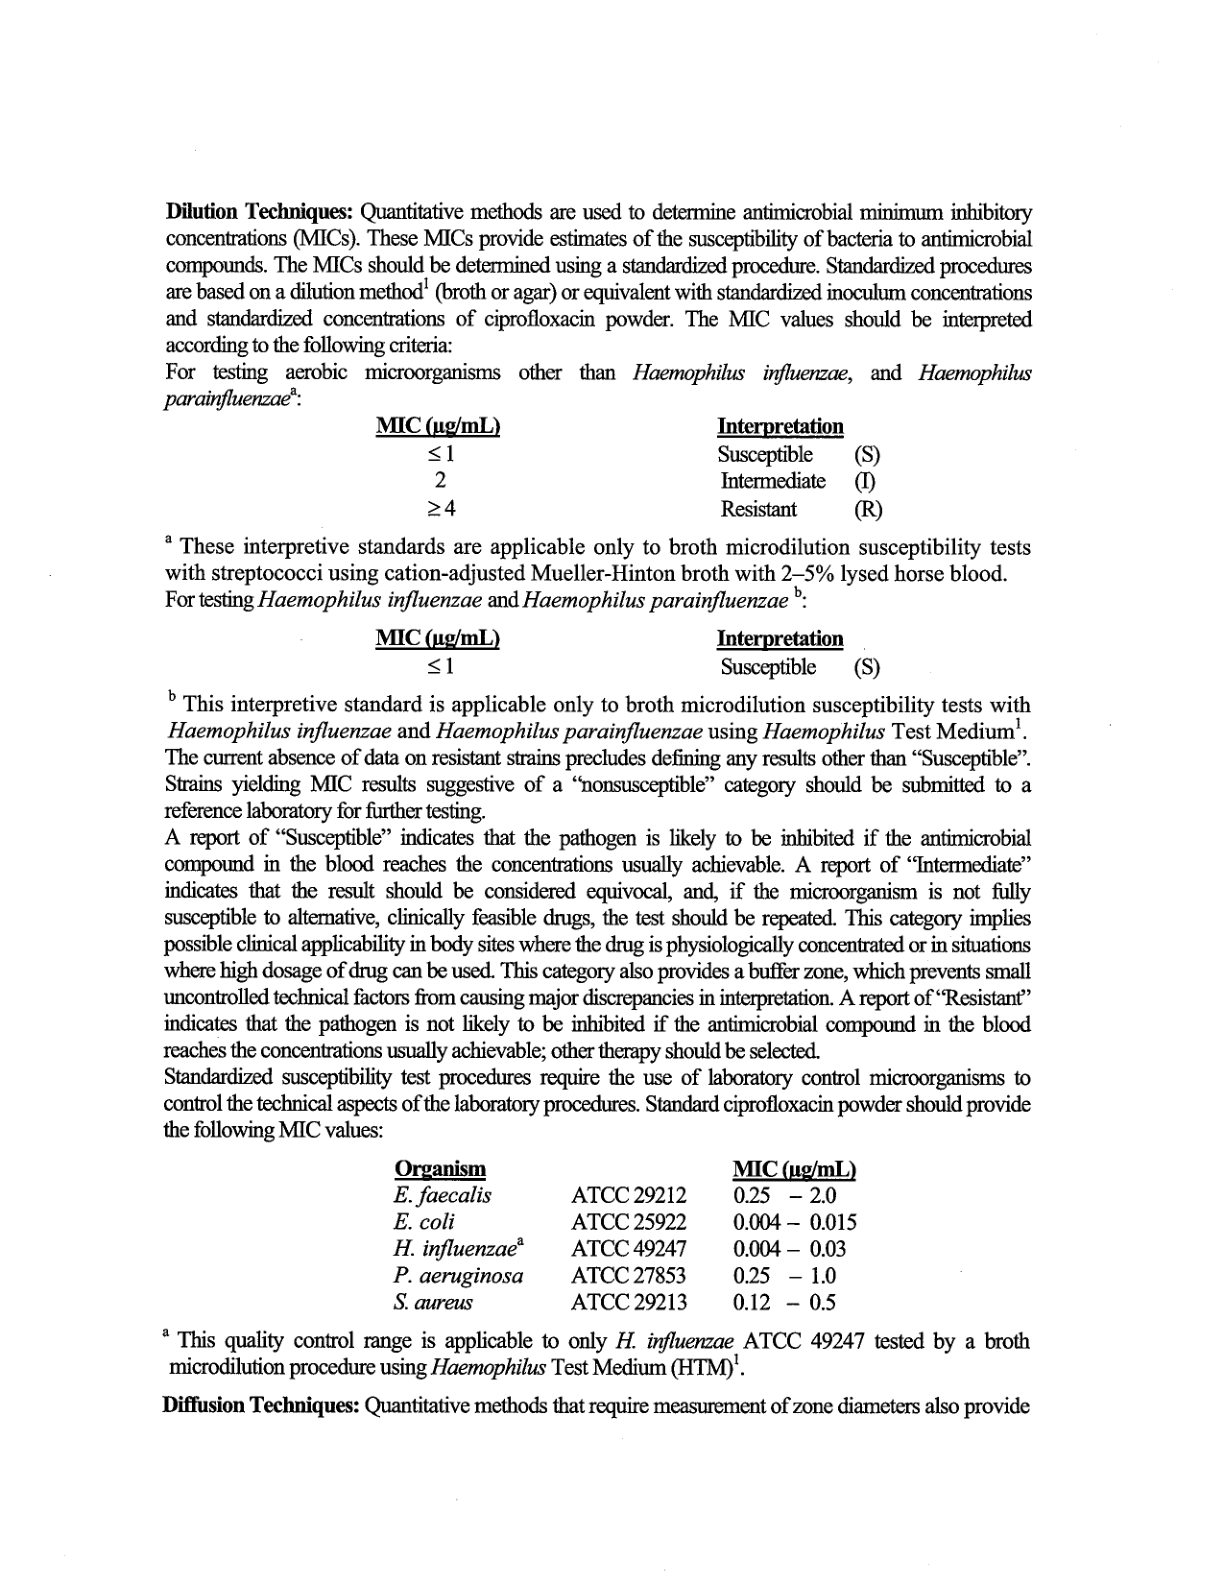nolines: (392, 1155, 859, 1314), (372, 411, 885, 521), (372, 624, 883, 681)
